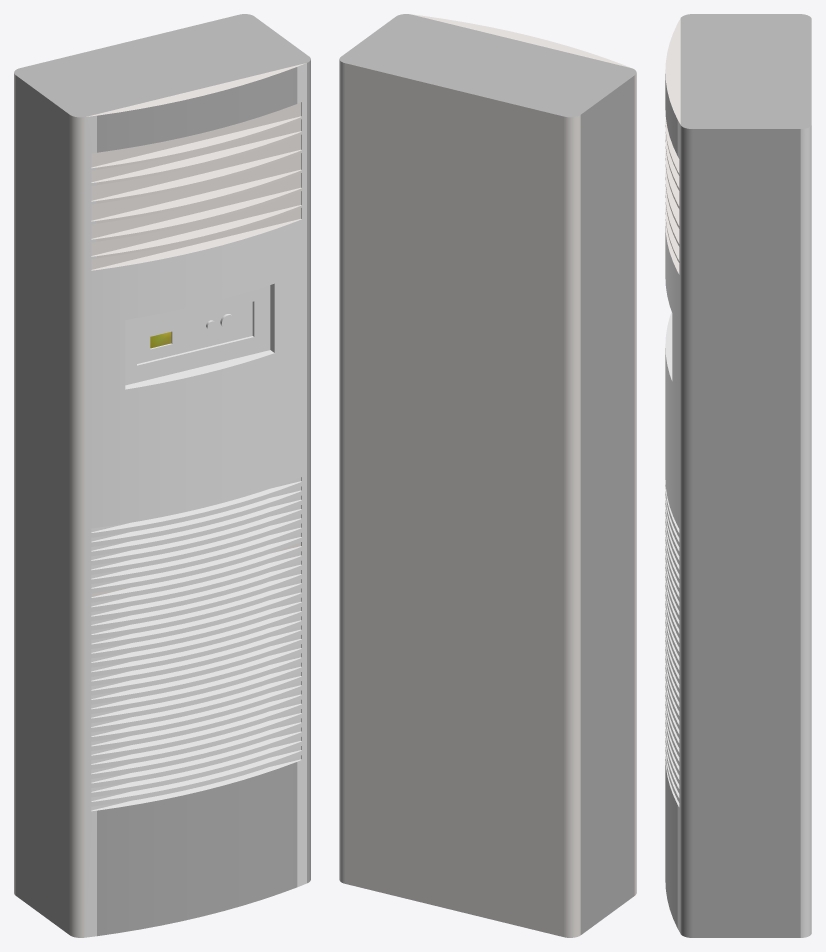
Rendered from AC_stand.gltf.
3 views of the same model, side by side, from view 1: azimuth 30°, elevation 25°; view 2: azimuth 150°, elevation 25°; view 3: azimuth 270°, elevation 25° (orthographic).
Visible parts, largest first — view 1: Object_3, Object_2, Object_4; view 2: Object_4, Object_2, Object_3; view 3: Object_2, Object_3, Object_4.
Boxes of the visible parts, x1=… form: Object_3: x1=84, y1=63, x2=306, y2=937; Object_2: x1=14, y1=14, x2=310, y2=936; Object_4: x1=14, y1=63, x2=305, y2=937; Object_4: x1=345, y1=14, x2=636, y2=937; Object_2: x1=339, y1=14, x2=636, y2=934; Object_3: x1=339, y1=59, x2=344, y2=883; Object_2: x1=665, y1=14, x2=811, y2=937; Object_3: x1=665, y1=120, x2=811, y2=937; Object_4: x1=665, y1=18, x2=680, y2=274.
Bounding box in the file's own units: 0.6175 × 2.02 × 0.3316.
4 materials, 1 textured.
